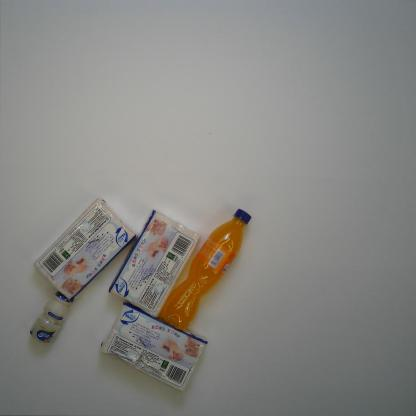Drink: (158, 207, 252, 332)
Milk: (29, 291, 72, 345)
Tissue: (32, 197, 138, 304), (108, 208, 201, 319), (99, 302, 208, 394)
